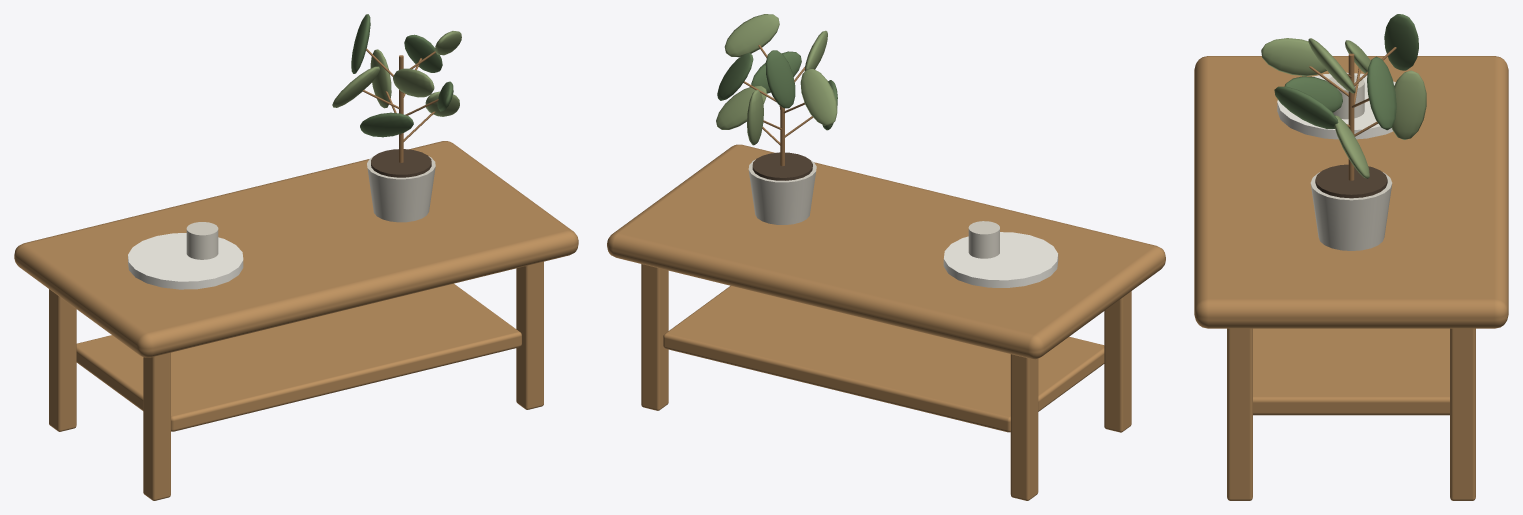
The picture shows the model from 3 angles, left to right: view 1: azimuth 30°, elevation 25°; view 2: azimuth 150°, elevation 25°; view 3: azimuth 270°, elevation 25°; orthographic projection. The views are drawn at different scales.
Visible parts, largest first — view 1: Coffee tabletop, Lower shelf, Tapered leg (×3), Leaf (×6), Ceramic tray, Matte ceramic planter, Pot soil, Espresso cup; view 2: Coffee tabletop, Lower shelf, Tapered leg (×3), Leaf (×6), Ceramic tray, Matte ceramic planter, Pot soil, Espresso cup; view 3: Coffee tabletop, Lower shelf, Leaf (×9), Tapered leg (×2), Matte ceramic planter, Pot soil, Ceramic tray, Espresso cup, Stem.
Part boxes in pixels (left/top/right/bottom): Coffee tabletop: left=14, top=141, right=578, bottom=357; Lower shelf: left=76, top=283, right=521, bottom=431; Tapered leg (×3): left=49, top=261, right=543, bottom=500; Leaf (×6): left=332, top=14, right=442, bottom=137; Ceramic tray: left=128, top=233, right=243, bottom=289; Matte ceramic planter: left=367, top=156, right=435, bottom=222; Pot soil: left=371, top=149, right=431, bottom=177; Espresso cup: left=186, top=222, right=218, bottom=259; Coffee tabletop: left=607, top=144, right=1165, bottom=359; Lower shelf: left=663, top=285, right=1104, bottom=432; Tapered leg (×3): left=641, top=264, right=1131, bottom=500; Leaf (×6): left=716, top=14, right=837, bottom=145; Ceramic tray: left=943, top=232, right=1058, bottom=287; Matte ceramic planter: left=748, top=158, right=816, bottom=224; Pot soil: left=752, top=152, right=812, bottom=180; Espresso cup: left=968, top=221, right=999, bottom=258; Coffee tabletop: left=1194, top=56, right=1508, bottom=328; Lower shelf: left=1253, top=328, right=1449, bottom=415; Leaf (×9): left=1261, top=14, right=1426, bottom=178; Tapered leg (×2): left=1227, top=328, right=1475, bottom=500; Matte ceramic planter: left=1310, top=172, right=1392, bottom=250; Pot soil: left=1315, top=164, right=1387, bottom=198; Ceramic tray: left=1277, top=72, right=1395, bottom=139; Espresso cup: left=1329, top=75, right=1364, bottom=119; Stem: left=1348, top=53, right=1354, bottom=180.
Bounding box in the file's own units: 1.05 × 0.8277 × 0.55.
